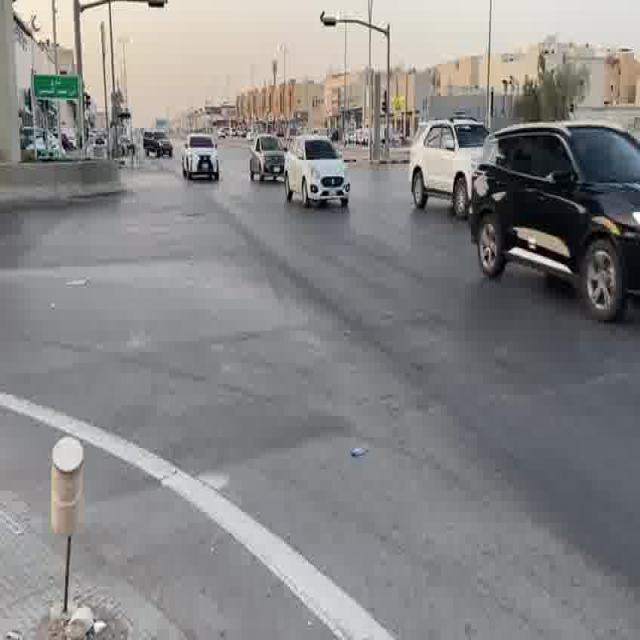bus: (466, 123, 639, 316), (408, 120, 495, 212), (283, 137, 350, 209), (182, 135, 220, 182), (250, 137, 288, 184), (20, 127, 59, 151), (145, 130, 173, 157)
car: (179, 209, 640, 640), (466, 123, 639, 316), (408, 120, 495, 212), (283, 137, 350, 209), (182, 135, 220, 182), (250, 137, 288, 184), (20, 127, 59, 151), (145, 130, 173, 157)
lanes: (179, 209, 640, 640), (226, 209, 639, 634)
lanes2: (226, 209, 639, 634), (260, 205, 640, 474)
lanes3: (260, 205, 640, 474), (286, 201, 640, 404)
lanes4: (286, 201, 640, 404), (327, 192, 640, 313)
lanes5: (327, 192, 640, 313)
